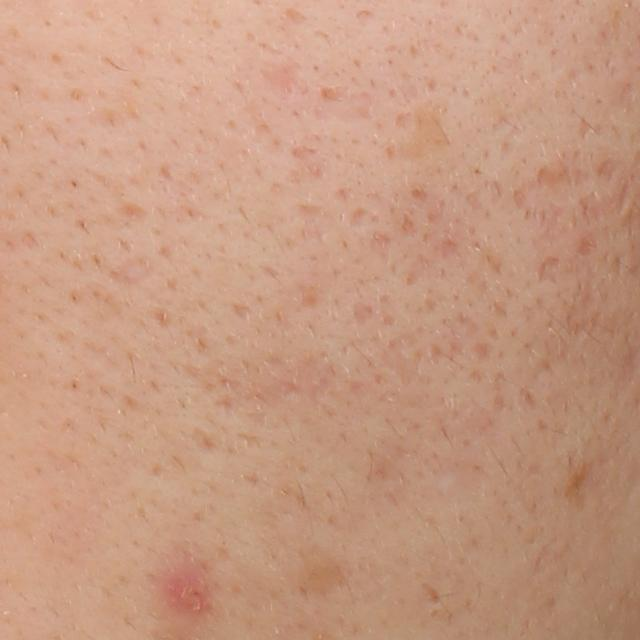atrophic_scar: (383, 106, 461, 165), (560, 261, 602, 340), (262, 56, 307, 99), (537, 165, 595, 189), (369, 229, 394, 270), (349, 298, 377, 330), (573, 230, 600, 258), (537, 254, 561, 285), (320, 84, 352, 105), (597, 155, 619, 183), (617, 177, 633, 215), (576, 116, 596, 142), (511, 189, 528, 213)
papule: (166, 569, 208, 613)
